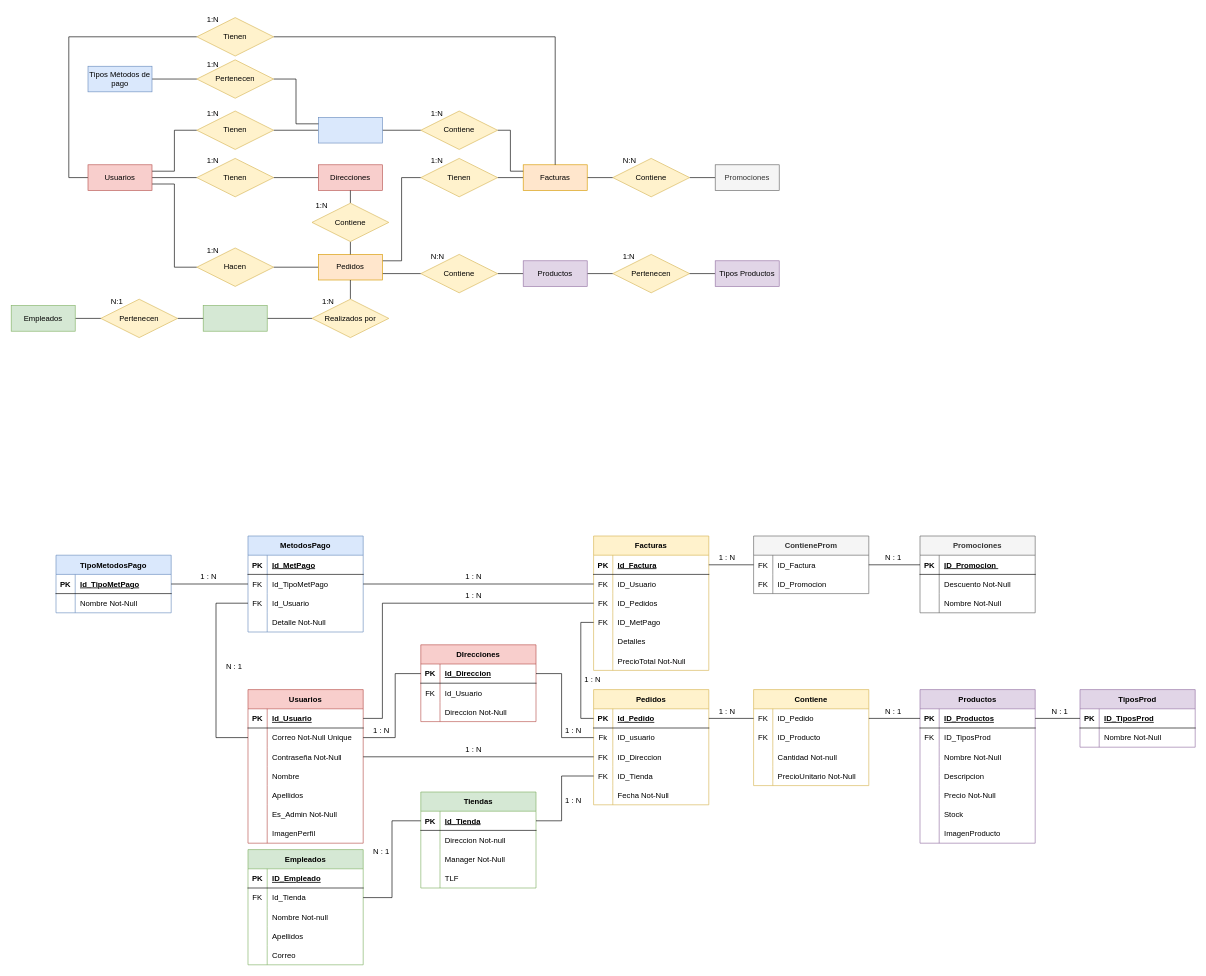
Image size: 1206x976. Some labels were removed from this diagram. Here are the shapes that lost their labels. From the top down, the centre of each, then its label:
At (x=350, y=130): "Métodos de pago".
At (x=235, y=318): "Tienda".
